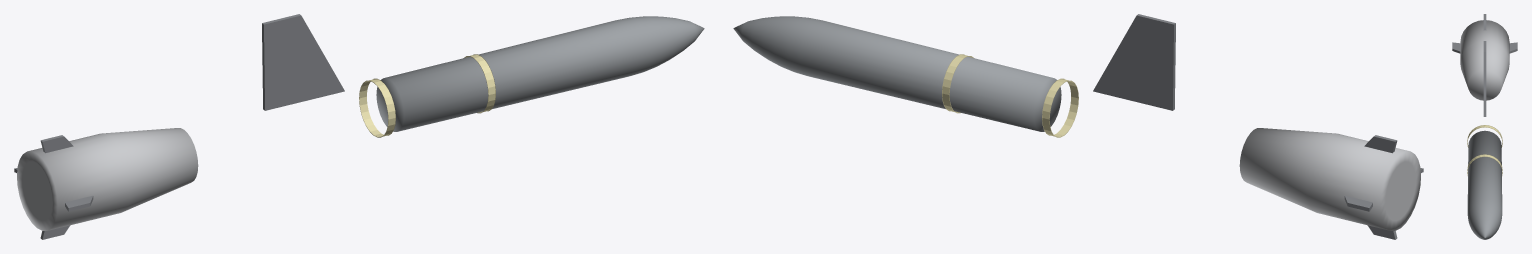
File: RU_STRAT_Meteorit_LOD1.fbx
3 views of the same model, side by side, from view 1: azimuth 30°, elevation 25°; view 2: azimuth 150°, elevation 25°; view 3: azimuth 270°, elevation 25° (orthographic). The views are drawn at different scales.
Parts seen in each view (by area): view 1: WPN_RU_STRAT_Meteorit_LOD1_Body, WPN_RU_STRAT_Meteorit_LOD1_Tail, WPN_RU_STRAT_Meteorit_LOD1_Wings, WPN_RU_STRAT_Meteorit_LOD1_Marking, WPN_RU_STRAT_Meteorit_LOD1_Fins; view 2: WPN_RU_STRAT_Meteorit_LOD1_Body, WPN_RU_STRAT_Meteorit_LOD1_Tail, WPN_RU_STRAT_Meteorit_LOD1_Wings, WPN_RU_STRAT_Meteorit_LOD1_Marking, WPN_RU_STRAT_Meteorit_LOD1_Fins; view 3: WPN_RU_STRAT_Meteorit_LOD1_Body, WPN_RU_STRAT_Meteorit_LOD1_Tail, WPN_RU_STRAT_Meteorit_LOD1_Wings, WPN_RU_STRAT_Meteorit_LOD1_Marking, WPN_RU_STRAT_Meteorit_LOD1_Fins.
Part boxes in pixels (left/top/right/bottom): WPN_RU_STRAT_Meteorit_LOD1_Body: left=376, top=16, right=704, bottom=131; WPN_RU_STRAT_Meteorit_LOD1_Tail: left=17, top=128, right=198, bottom=230; WPN_RU_STRAT_Meteorit_LOD1_Wings: left=262, top=14, right=344, bottom=110; WPN_RU_STRAT_Meteorit_LOD1_Marking: left=359, top=54, right=495, bottom=137; WPN_RU_STRAT_Meteorit_LOD1_Fins: left=14, top=135, right=93, bottom=239; WPN_RU_STRAT_Meteorit_LOD1_Body: left=733, top=16, right=1061, bottom=131; WPN_RU_STRAT_Meteorit_LOD1_Tail: left=1239, top=128, right=1420, bottom=230; WPN_RU_STRAT_Meteorit_LOD1_Wings: left=1093, top=14, right=1175, bottom=110; WPN_RU_STRAT_Meteorit_LOD1_Marking: left=942, top=54, right=1078, bottom=137; WPN_RU_STRAT_Meteorit_LOD1_Fins: left=1344, top=135, right=1423, bottom=239; WPN_RU_STRAT_Meteorit_LOD1_Body: left=1467, top=130, right=1502, bottom=239; WPN_RU_STRAT_Meteorit_LOD1_Tail: left=1460, top=20, right=1509, bottom=100; WPN_RU_STRAT_Meteorit_LOD1_Wings: left=1483, top=41, right=1486, bottom=116; WPN_RU_STRAT_Meteorit_LOD1_Marking: left=1467, top=125, right=1502, bottom=175; WPN_RU_STRAT_Meteorit_LOD1_Fins: left=1452, top=14, right=1517, bottom=53.
Size of the model in its own units: 12 by 1.69 by 2.77.
